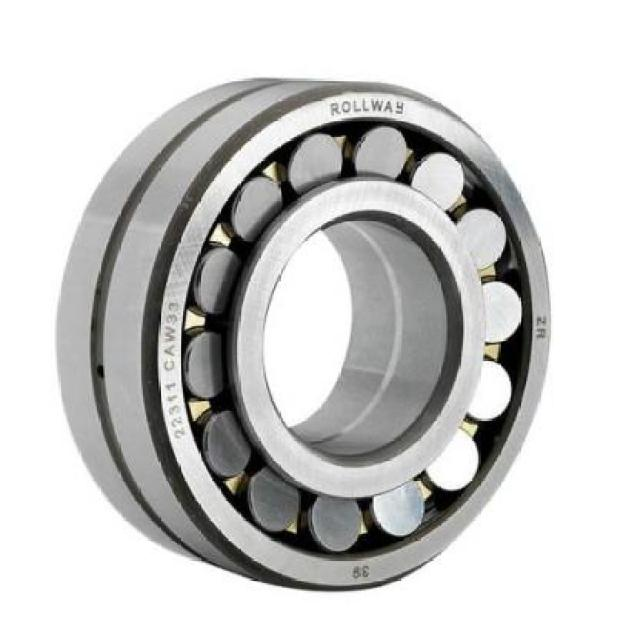Bearing: (47, 74, 556, 595)
